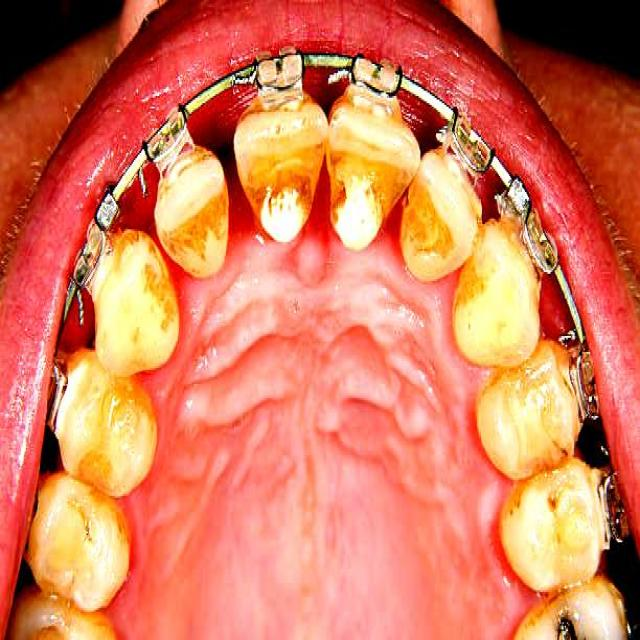caries: (323, 150, 390, 258), (254, 146, 314, 249), (547, 592, 586, 640)
